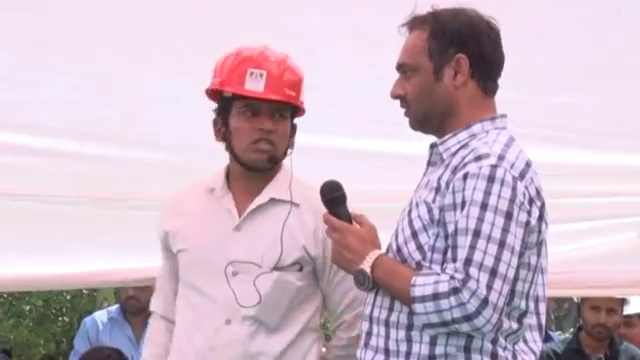helmet: (204, 51, 308, 117), (622, 294, 640, 319)
helmet_off: (383, 4, 503, 126), (575, 297, 625, 342), (114, 278, 155, 327)
helmet_on: (207, 51, 311, 180), (621, 295, 639, 348)
person: (320, 5, 552, 348), (143, 55, 369, 360), (68, 280, 160, 357), (535, 293, 640, 360)
